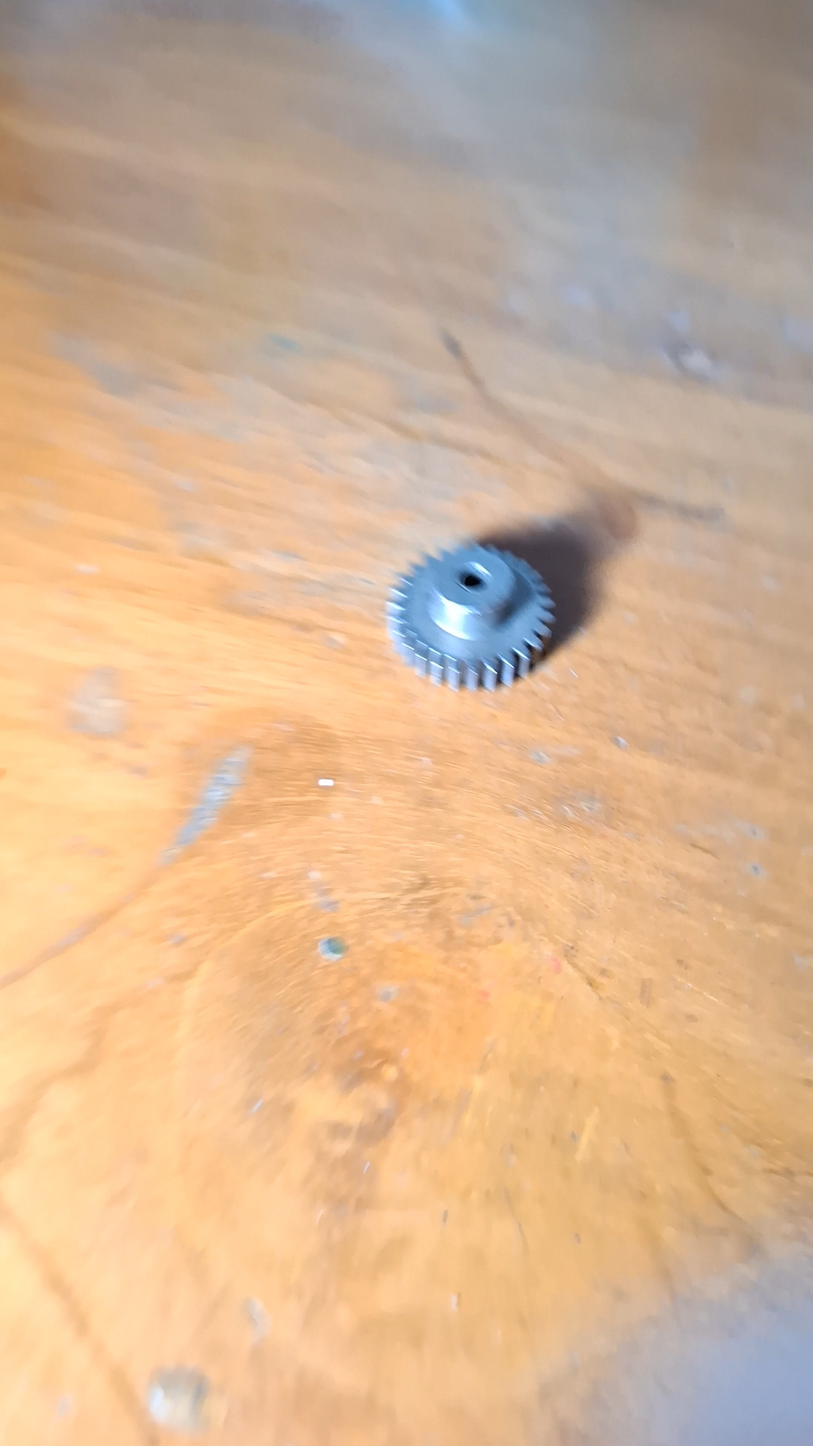spur gear: (388, 544, 553, 689)
